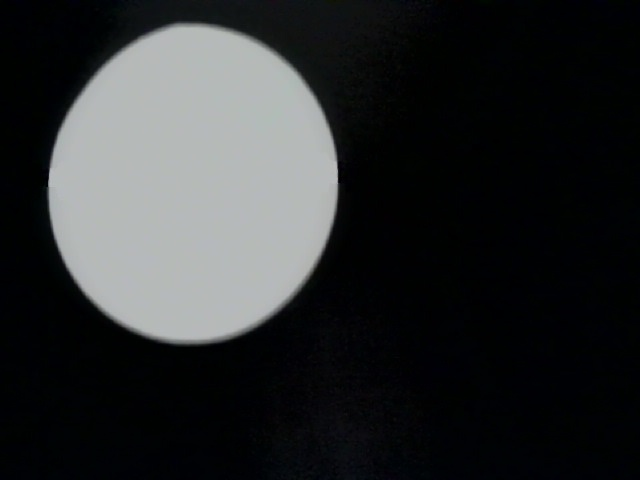KHSLJ: (121, 377, 631, 480)
